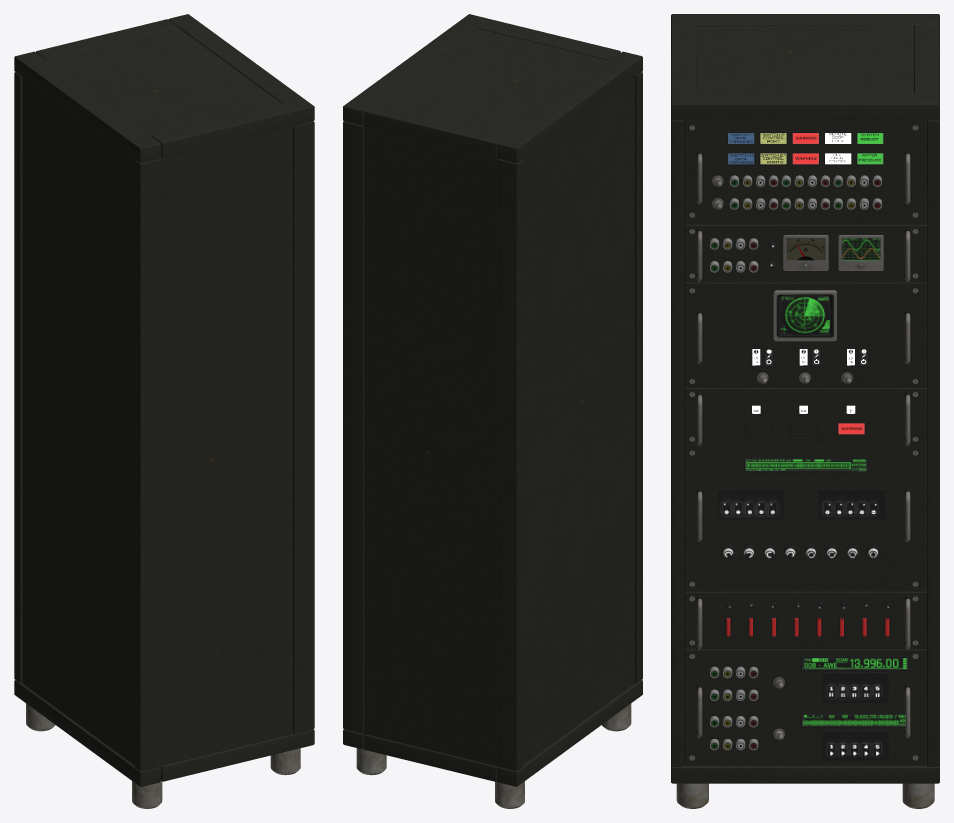
Rendered from SM_Server_1.fbx.
3 views of the same model, side by side, from view 1: azimuth 30°, elevation 25°; view 2: azimuth 150°, elevation 25°; view 3: azimuth 270°, elevation 25° (orthographic). The views are drawn at different scales.
Parts seen in each view (by area): view 1: SM_Server_1_LOD0; view 2: SM_Server_1_LOD0; view 3: SM_Server_1_LOD0.
Boxes of the visible parts, x1,y1,x2,y2 form: SM_Server_1_LOD0: (14, 14, 314, 808); SM_Server_1_LOD0: (343, 14, 642, 808); SM_Server_1_LOD0: (671, 14, 939, 808).
Size of the model in its own units: 67.11 by 78.73 by 229.
Materials: 1 (1 with a texture image).
